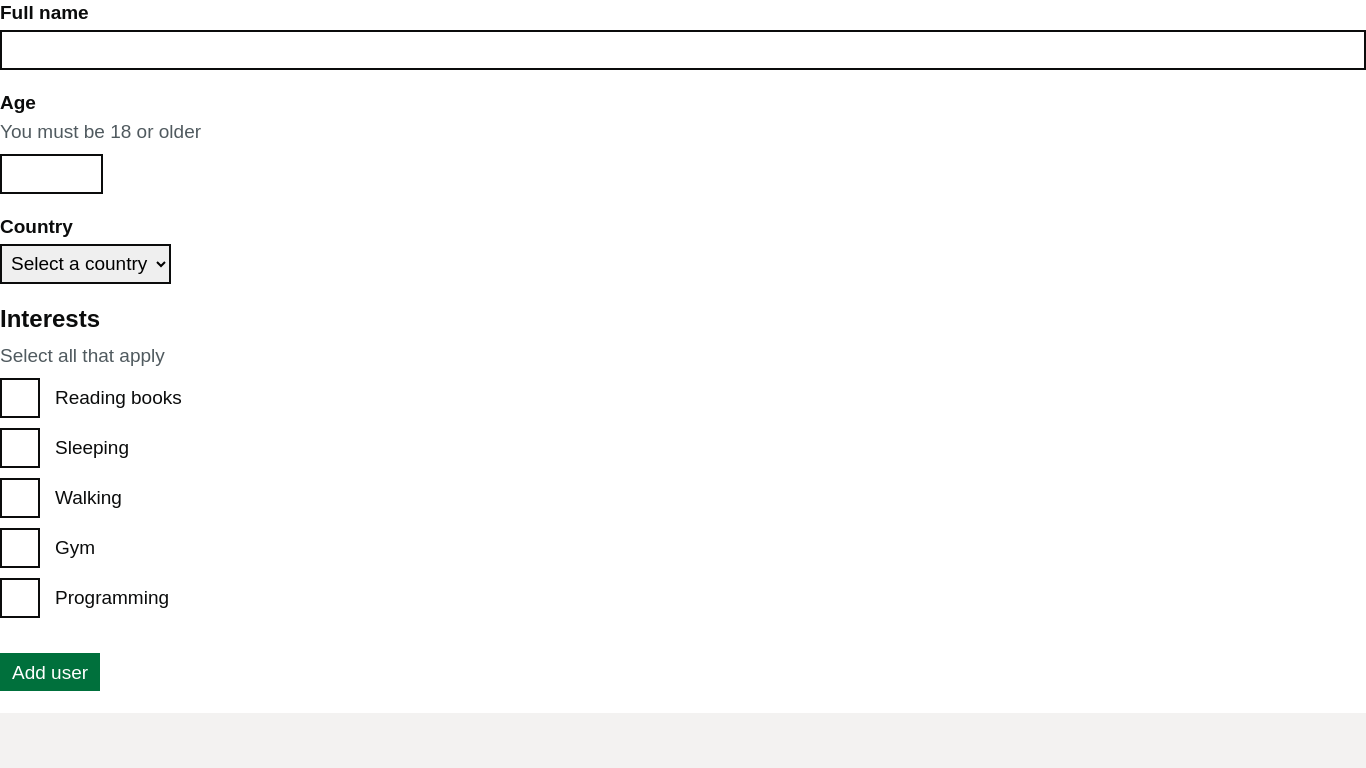
Test: UserForm › shows age validation error when age is below 18
Type "Test User" into the field labelled "Full name". click: {"x": 683, "y": 50}
box: [0, 30, 1365, 70]
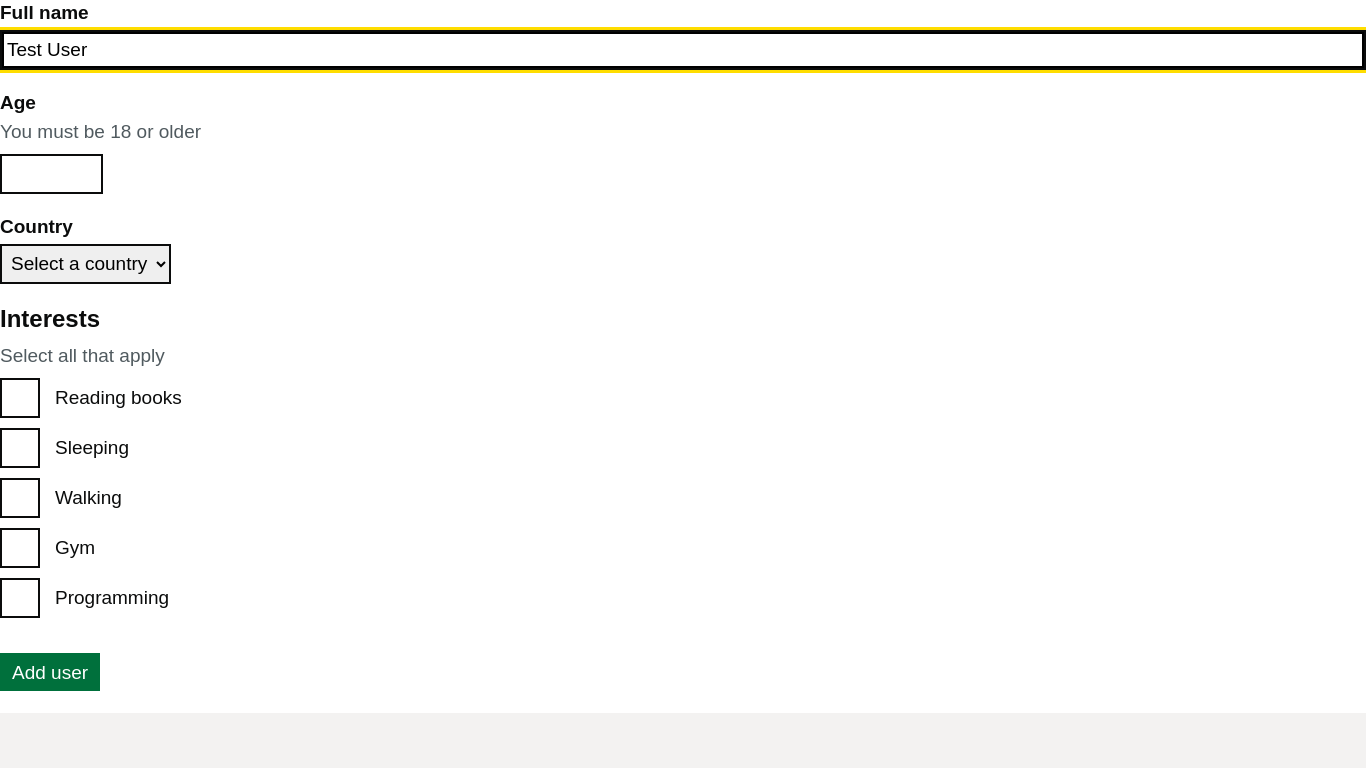
Type "17" into the number field labelled "Age". click: {"x": 51, "y": 174}
box: [0, 154, 103, 194]
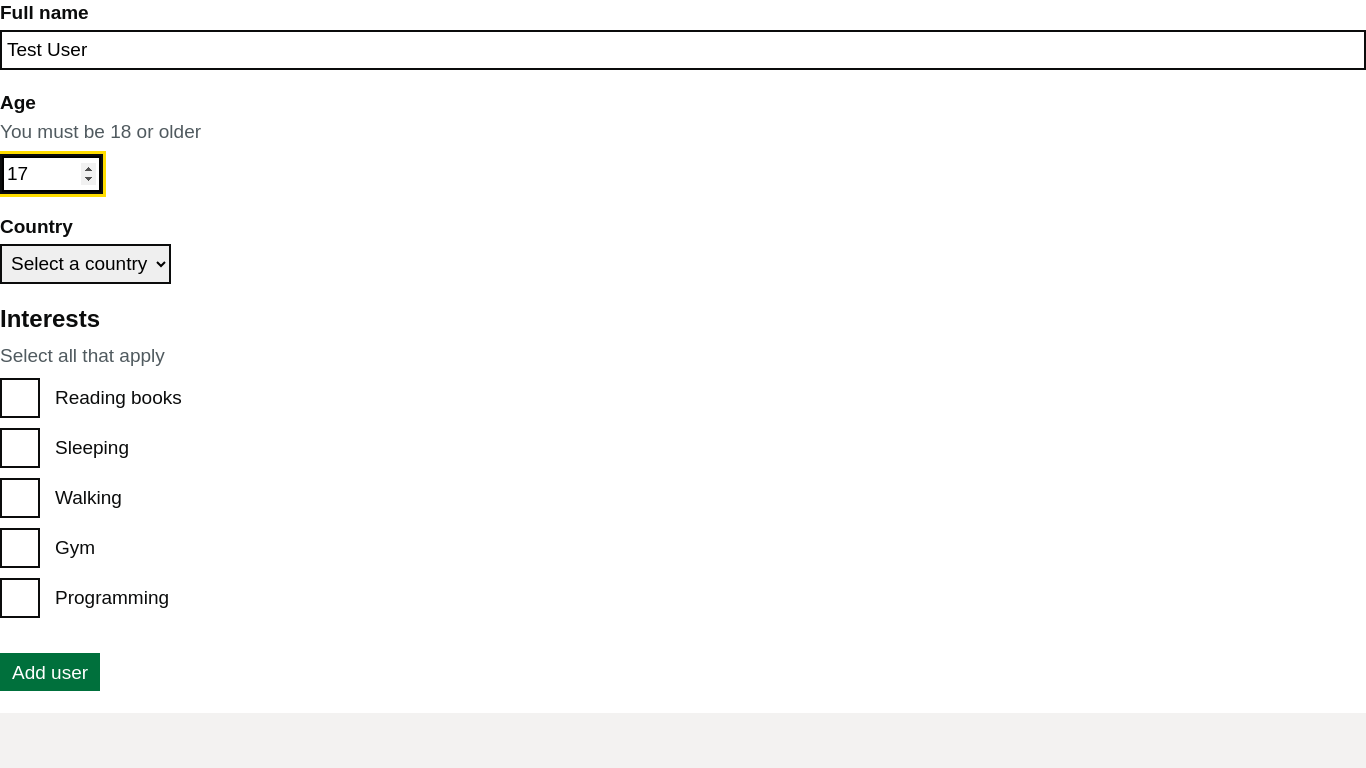
Select "England" in the dropdown labelled "Country". click: {"x": 86, "y": 264}
box: [0, 244, 171, 284]
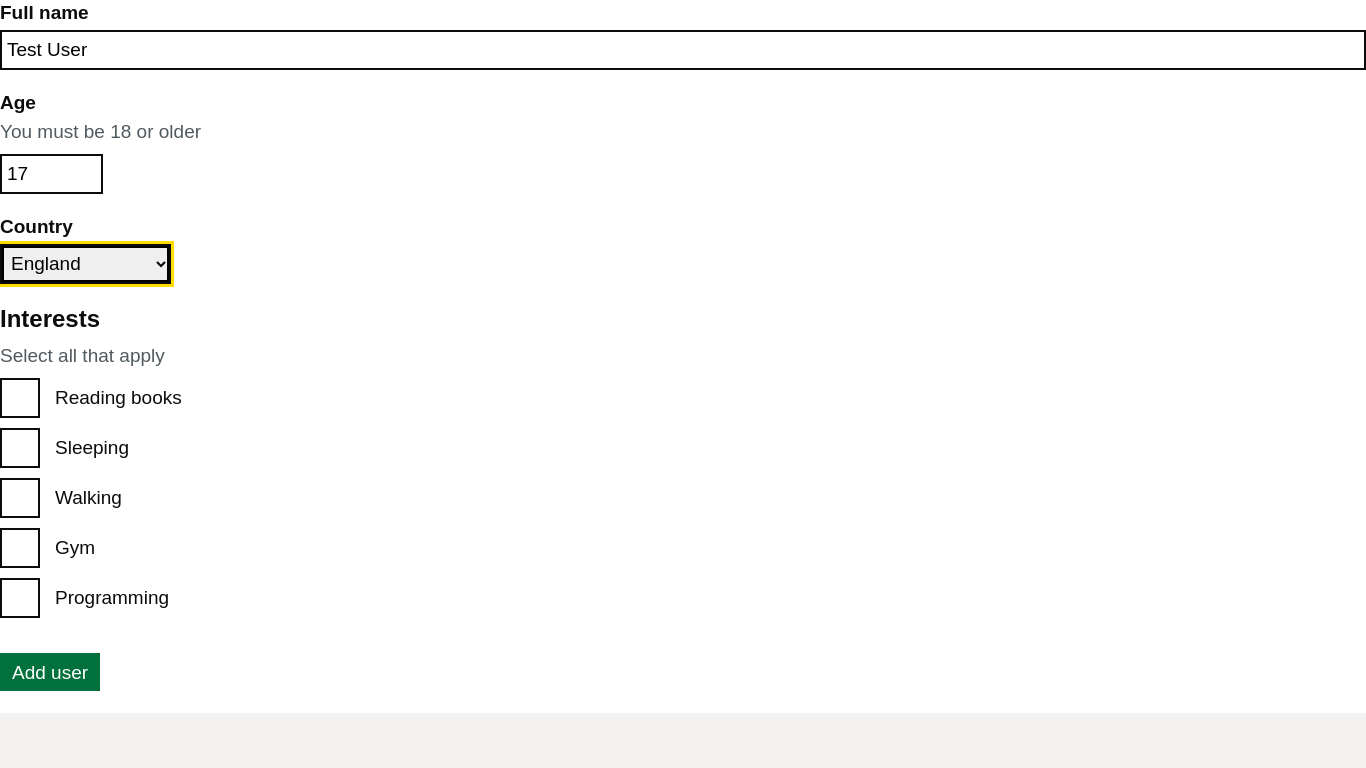
Click the checkbox labelled "Reading books". click: {"x": 118, "y": 397}
box: [55, 386, 182, 408]
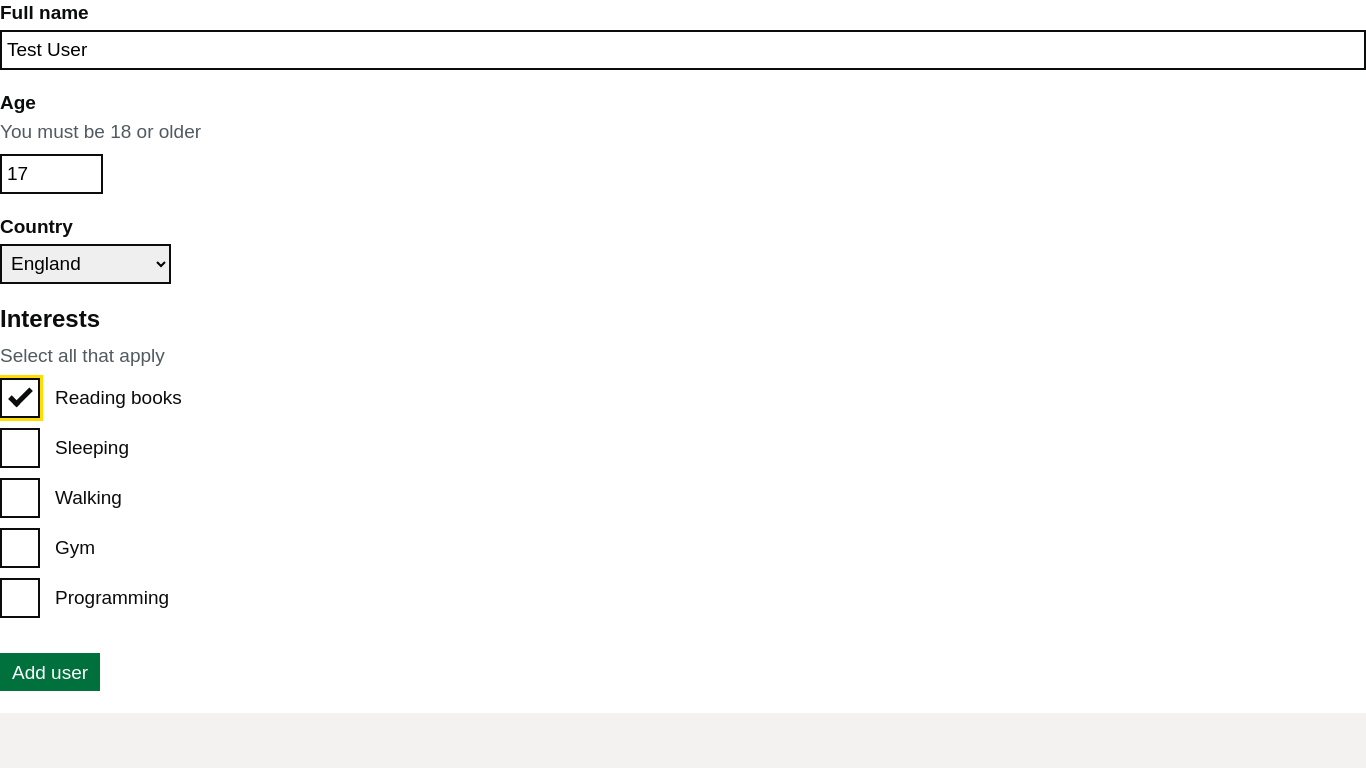
Click the button "Add user". click: {"x": 50, "y": 672}
box: [0, 652, 100, 690]
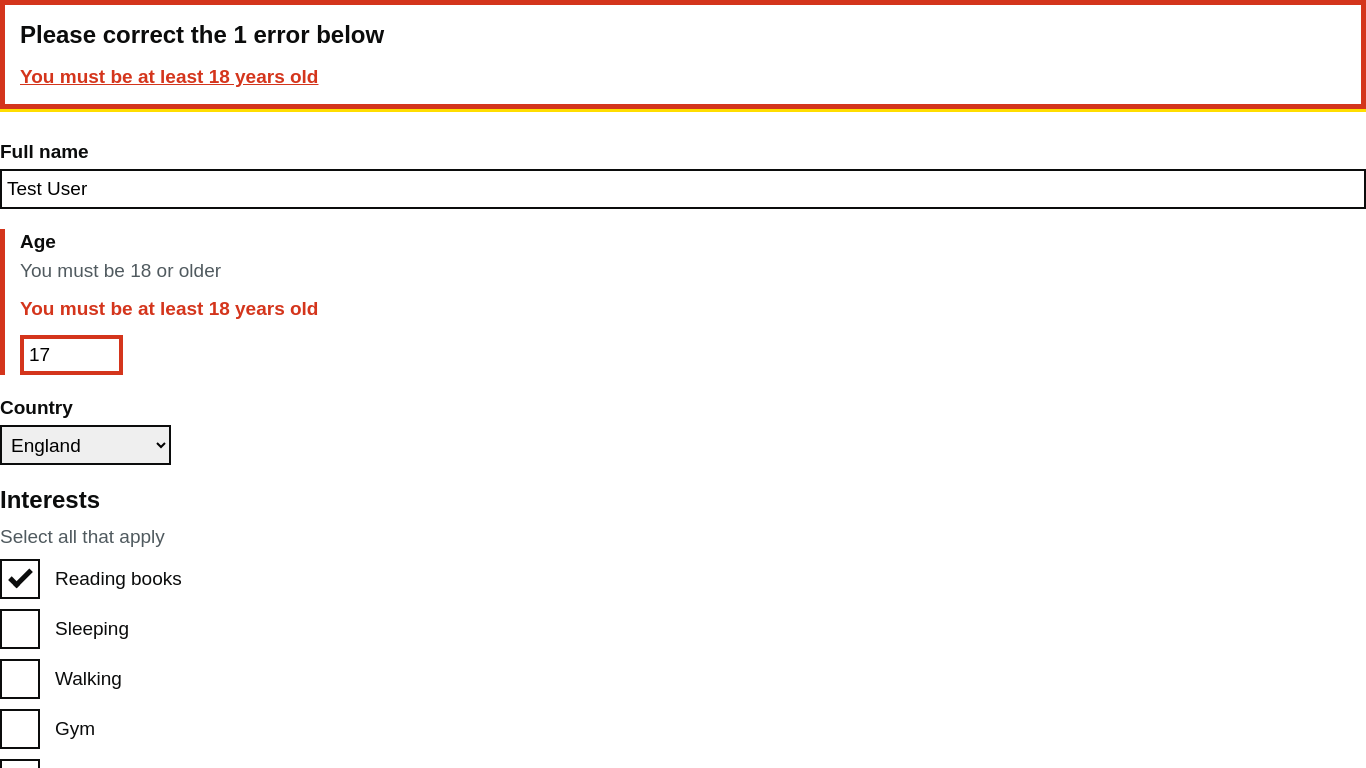
Check: the link "You must be at least 18 years old" is shown, box [20, 66, 318, 87]
